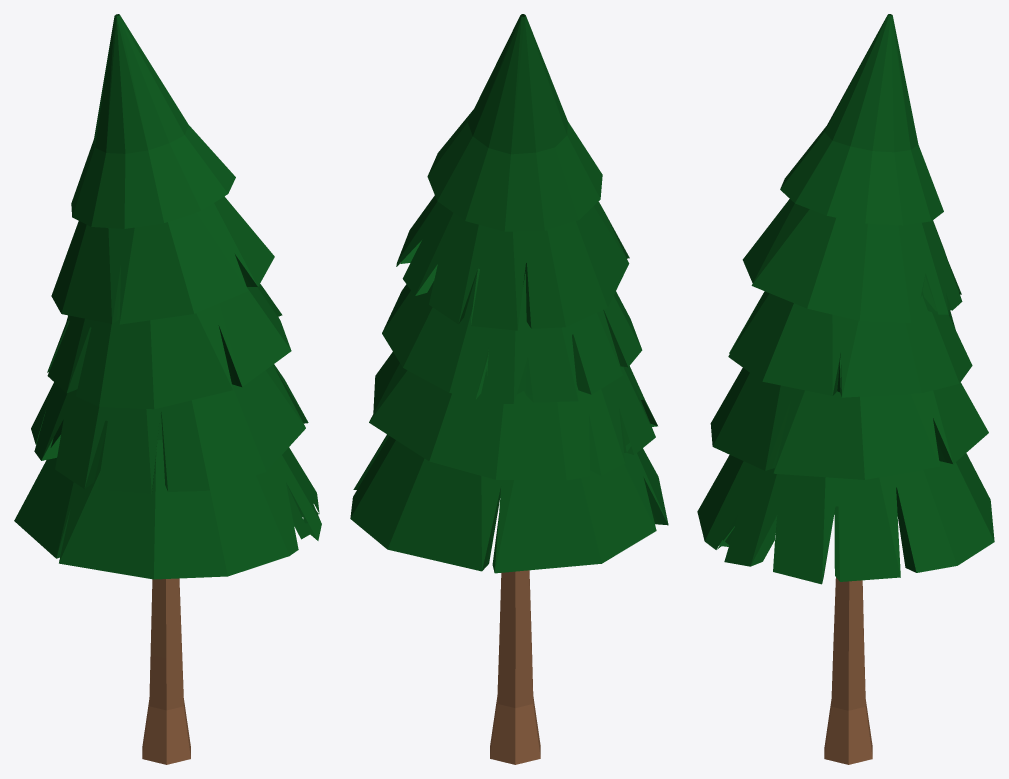
The model's file is tree2.gltf.
The picture shows the model from 3 angles, left to right: view 1: azimuth 30°, elevation 25°; view 2: azimuth 150°, elevation 25°; view 3: azimuth 270°, elevation 25°; orthographic projection. The views are drawn at different scales.
Parts seen in each view (by area): view 1: Tree 42_79; view 2: Tree 42_79; view 3: Tree 42_79.
Boxes of the visible parts, box(x1,y1,x2,y2) form: Tree 42_79: box(14, 14, 321, 764); Tree 42_79: box(350, 14, 668, 764); Tree 42_79: box(697, 14, 994, 764).
Size of the model in its own units: 0.8423 by 2.2 by 0.8185.
